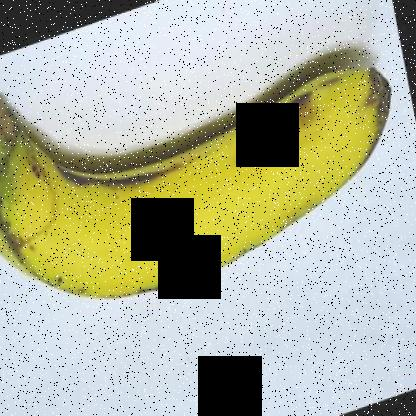freshripe: (1, 41, 402, 313)
